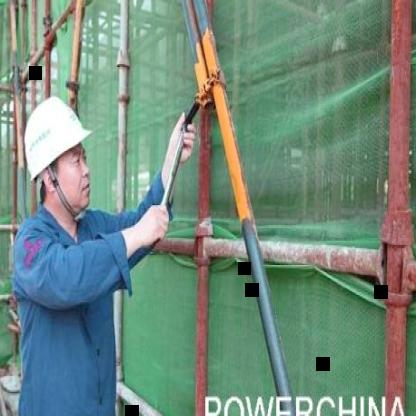helmet: (18, 84, 100, 226)
